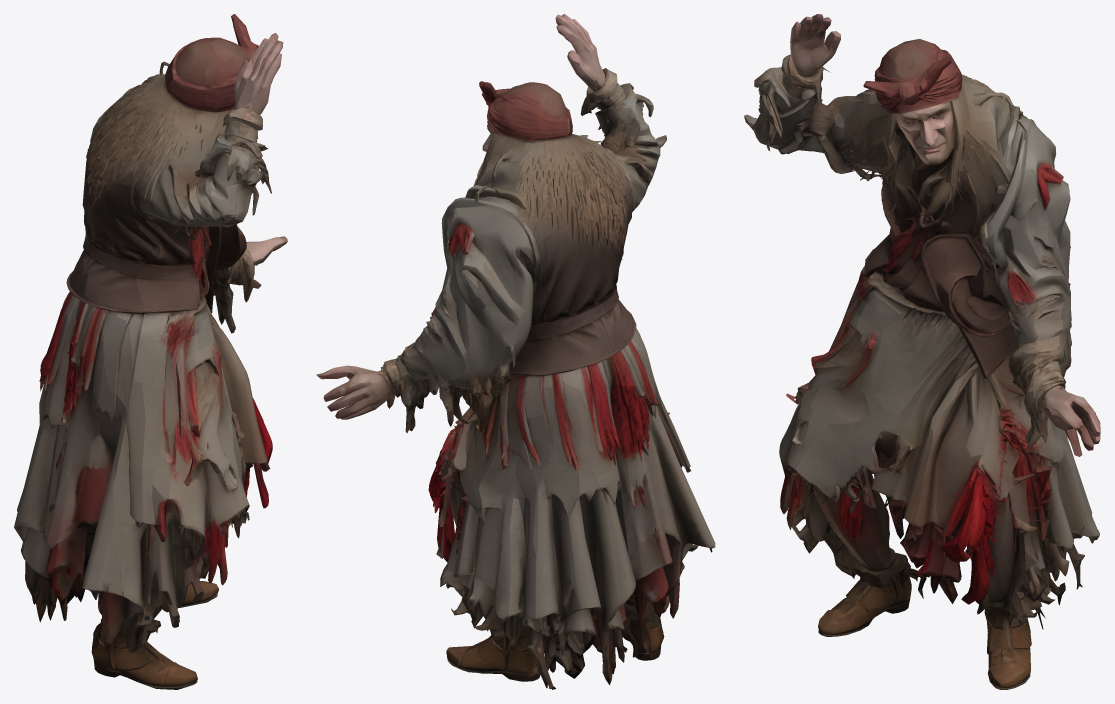
Rendered from baba_jaga_stara.glb.
3 renders of one model, left to right at view 1: azimuth 30°, elevation 25°; view 2: azimuth 150°, elevation 25°; view 3: azimuth 270°, elevation 25°, orthographic. The views are drawn at different scales.
Parts seen in each view (by area): view 1: baba_jaga_stara; view 2: baba_jaga_stara; view 3: baba_jaga_stara.
Part boxes in pixels (x1,y1,x2,y2): baba_jaga_stara: (14,14,287,689); baba_jaga_stara: (316,14,715,689); baba_jaga_stara: (744,14,1100,689).
Size of the model in its own units: 0.9374 by 1.8 by 0.8741.
1 material, 1 textured.
